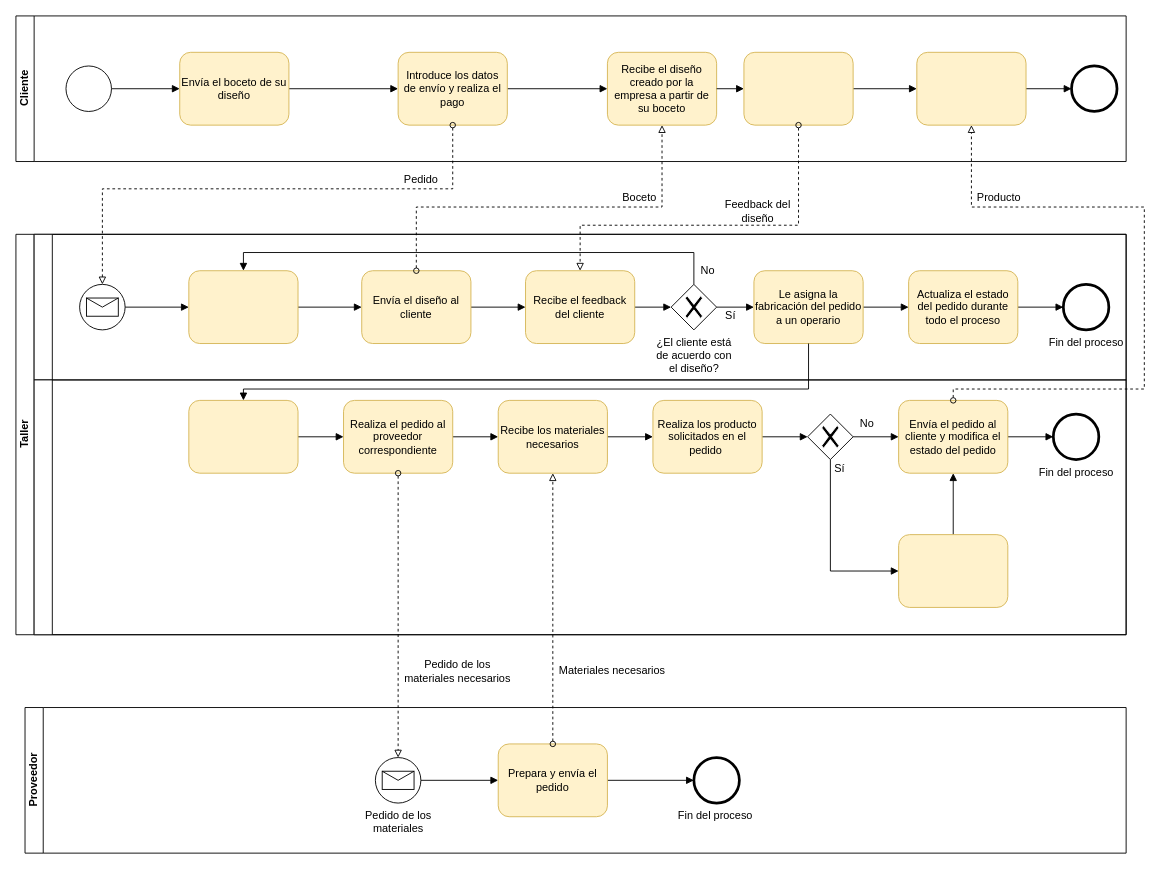
This 1168x869 diagram has some shape labels left out. The box of each missing label's shape, as (x1, y1, x2, y2) in pixels:
Comercial: (33, 233, 1126, 380)
Datos del pedido del cliente: (79, 283, 125, 330)
Devuelve su feedback sobre el diseño enviado por la empresa: (743, 51, 853, 125)
Entra en la aplicación: (65, 65, 111, 111)
Fin de proceso: (1071, 65, 1117, 111)
Guarda los materiales sobrantes en el almacén: (898, 534, 1008, 607)
Operario: (33, 379, 1126, 635)
Realiza el diseño final del producto: (188, 270, 298, 344)
Recibe el pedido: (916, 51, 1026, 125)
Recibe el pedido que debe generar: (188, 399, 298, 473)
